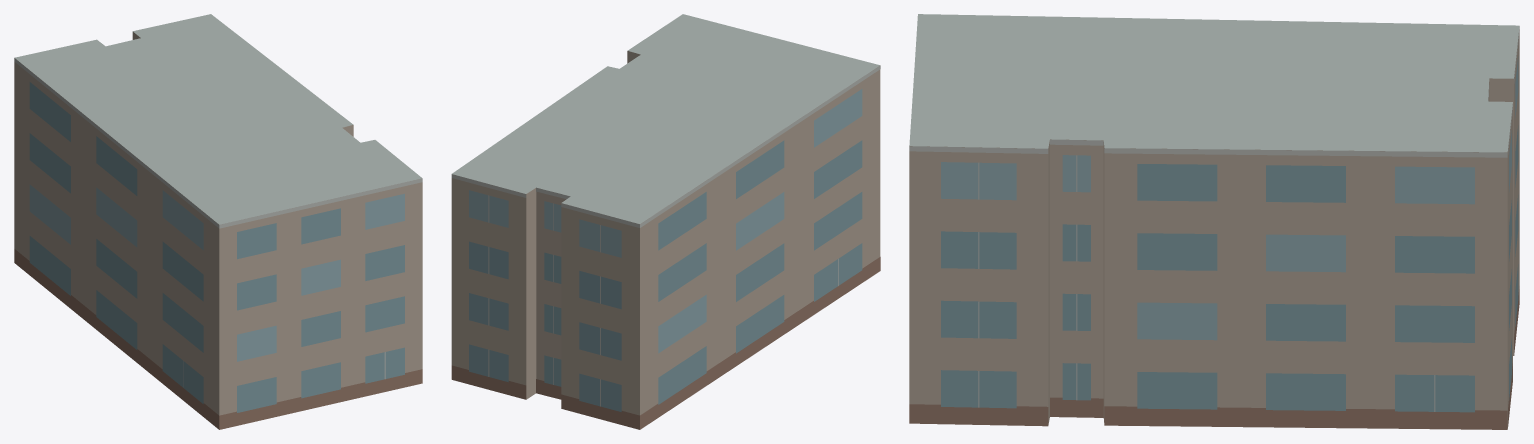
The model's file is survey-upis-32955661.glb.
3 renders of one model, left to right at view 1: azimuth 30°, elevation 25°; view 2: azimuth 150°, elevation 25°; view 3: azimuth 270°, elevation 25°, orthographic. The views are drawn at different scales.
Parts seen in each view (by area): view 1: survey-upis-32955661.tmp; view 2: survey-upis-32955661.tmp; view 3: survey-upis-32955661.tmp.
Boxes of the visible parts, x1,y1,x2,y2 form: survey-upis-32955661.tmp: (14, 14, 422, 429); survey-upis-32955661.tmp: (451, 14, 880, 429); survey-upis-32955661.tmp: (909, 14, 1519, 429).
Size of the model in its own units: 13.71 by 12.8 by 25.52.
